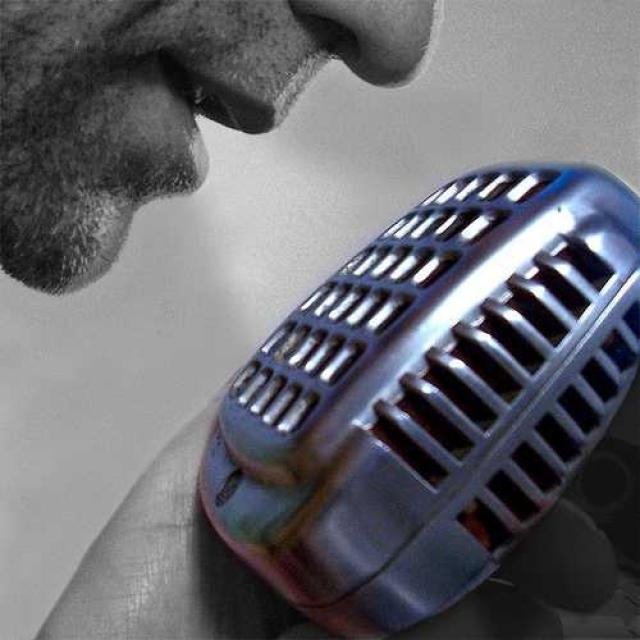microphone: (205, 166, 636, 636)
